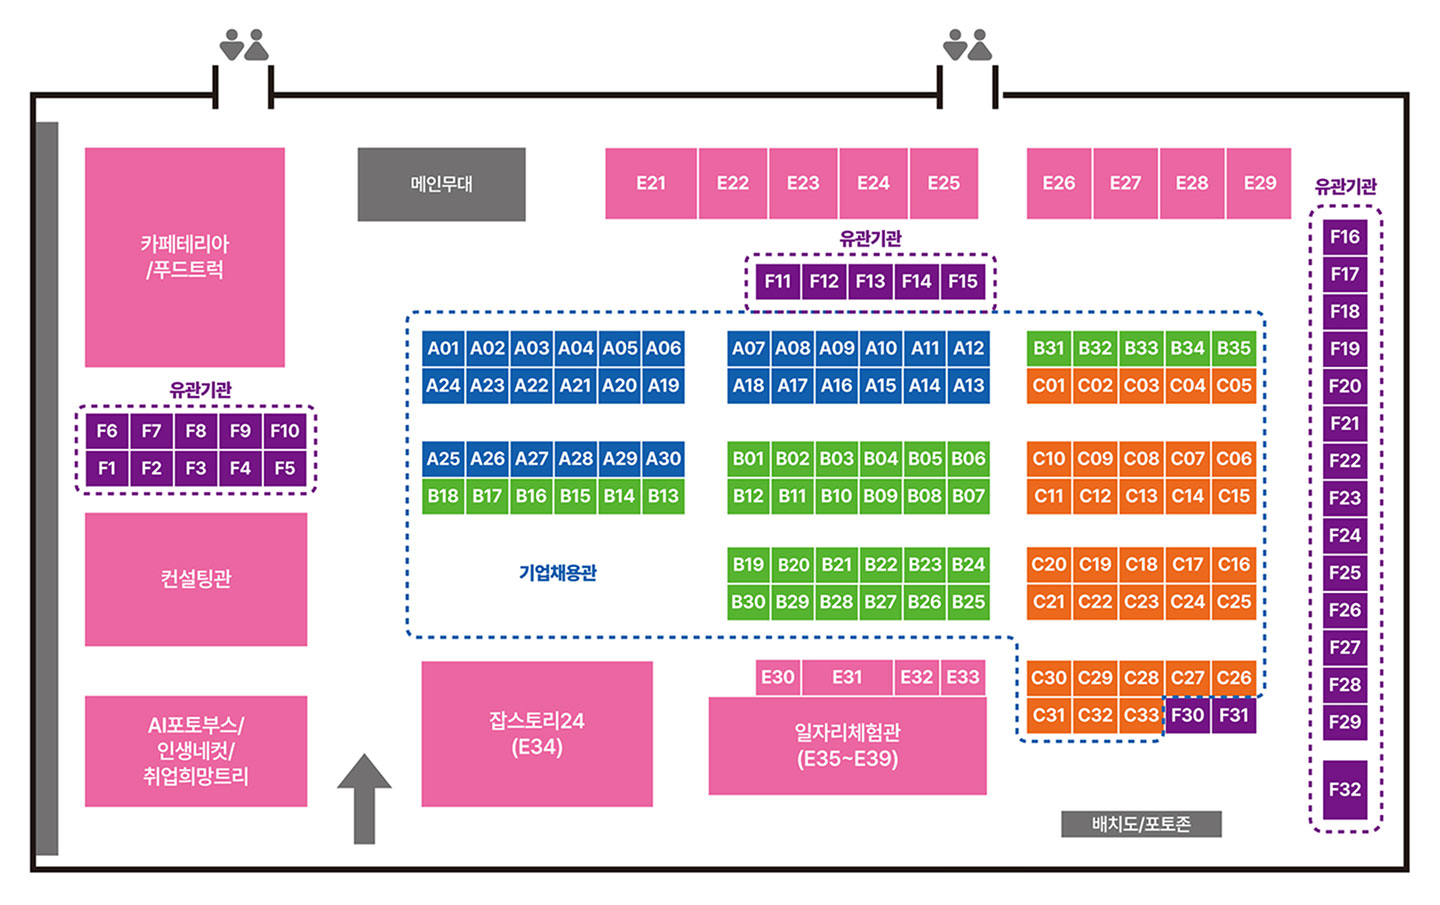booth: (420, 661, 653, 805), (86, 515, 304, 646), (709, 695, 989, 794), (86, 696, 308, 806), (608, 150, 695, 216), (700, 150, 766, 218), (772, 149, 838, 217), (1091, 149, 1157, 217), (1160, 149, 1226, 217), (841, 147, 907, 215), (910, 148, 976, 216), (1026, 148, 1092, 216), (1225, 150, 1291, 218), (1061, 810, 1222, 836), (806, 660, 895, 696), (1325, 761, 1366, 815), (895, 263, 939, 301), (941, 263, 985, 301), (1164, 480, 1209, 518), (1212, 476, 1256, 515), (892, 656, 936, 694), (768, 582, 814, 619), (771, 481, 816, 518), (768, 439, 814, 476), (550, 368, 597, 403), (1026, 478, 1070, 516), (1073, 479, 1117, 517), (1118, 479, 1162, 517), (1025, 580, 1069, 618), (1074, 584, 1118, 622), (756, 657, 800, 695), (945, 366, 990, 403), (725, 479, 770, 516), (725, 584, 770, 621), (812, 479, 857, 516), (813, 583, 858, 620), (858, 585, 903, 622), (903, 583, 948, 620), (945, 584, 990, 621), (860, 480, 905, 517), (858, 439, 903, 476), (1212, 329, 1256, 367), (1212, 441, 1256, 479), (768, 367, 814, 403), (772, 547, 817, 584), (462, 332, 509, 367), (506, 331, 553, 366), (552, 332, 599, 367), (595, 368, 642, 403), (639, 368, 686, 403), (1119, 366, 1163, 403), (1119, 328, 1163, 366), (1168, 329, 1212, 367), (1166, 368, 1210, 406), (1213, 366, 1256, 403), (1026, 439, 1070, 476), (1071, 439, 1115, 476), (1119, 440, 1163, 478), (1166, 440, 1210, 478), (1027, 546, 1071, 584), (1073, 543, 1117, 581), (768, 329, 813, 366), (812, 328, 857, 365), (859, 329, 904, 366), (901, 329, 946, 366), (946, 331, 991, 367), (724, 367, 768, 403), (813, 367, 858, 403), (858, 369, 903, 406), (901, 368, 946, 405), (724, 441, 768, 478), (724, 543, 768, 580), (814, 440, 859, 476), (815, 545, 860, 582), (947, 546, 992, 583), (903, 545, 948, 582), (857, 547, 902, 584), (903, 441, 948, 478), (948, 440, 993, 476), (1024, 329, 1069, 366), (1027, 367, 1072, 403), (1075, 368, 1120, 405), (1071, 329, 1116, 366), (507, 370, 554, 405), (596, 331, 643, 365), (641, 331, 688, 365), (1167, 583, 1207, 621), (1212, 582, 1252, 620), (1167, 658, 1207, 696), (1215, 659, 1255, 698), (1216, 698, 1256, 736), (942, 657, 982, 695), (597, 480, 643, 513), (1122, 581, 1162, 619), (1030, 659, 1070, 698), (1076, 657, 1116, 695), (1121, 659, 1161, 698), (1122, 698, 1162, 736), (1214, 545, 1254, 583), (86, 411, 128, 446), (262, 412, 304, 447), (554, 480, 599, 513), (594, 440, 639, 473), (640, 480, 685, 513), (640, 441, 685, 474), (1122, 545, 1162, 583), (1171, 544, 1211, 582), (1028, 694, 1068, 732), (1079, 698, 1119, 735), (1169, 696, 1209, 734), (552, 444, 597, 476), (132, 414, 174, 449), (174, 415, 216, 450), (220, 414, 262, 449), (755, 263, 797, 298), (803, 265, 845, 300), (849, 266, 890, 301), (420, 332, 462, 367), (423, 367, 465, 402), (464, 366, 506, 401), (86, 452, 128, 487), (724, 331, 768, 363), (130, 451, 172, 486), (176, 449, 218, 484), (221, 451, 263, 486), (265, 449, 307, 484), (422, 444, 464, 475), (422, 479, 464, 510), (467, 478, 509, 509), (466, 444, 508, 475), (509, 442, 551, 473), (511, 480, 553, 511), (1325, 408, 1364, 438), (1327, 370, 1366, 400), (1326, 334, 1365, 364), (1325, 295, 1364, 325), (1326, 259, 1365, 289), (1326, 223, 1365, 253), (1327, 707, 1364, 738), (1326, 632, 1363, 663), (1326, 559, 1363, 590), (1324, 481, 1361, 512), (1328, 669, 1365, 700), (1327, 594, 1364, 625), (1327, 521, 1364, 552), (1327, 446, 1364, 476)
boundary: (32, 92, 1408, 867)
entrance: (309, 831, 417, 869)
exit: (307, 829, 415, 867)
food_area: (86, 147, 284, 366)
restroom: (938, 65, 993, 114)
stage: (359, 149, 523, 219)
